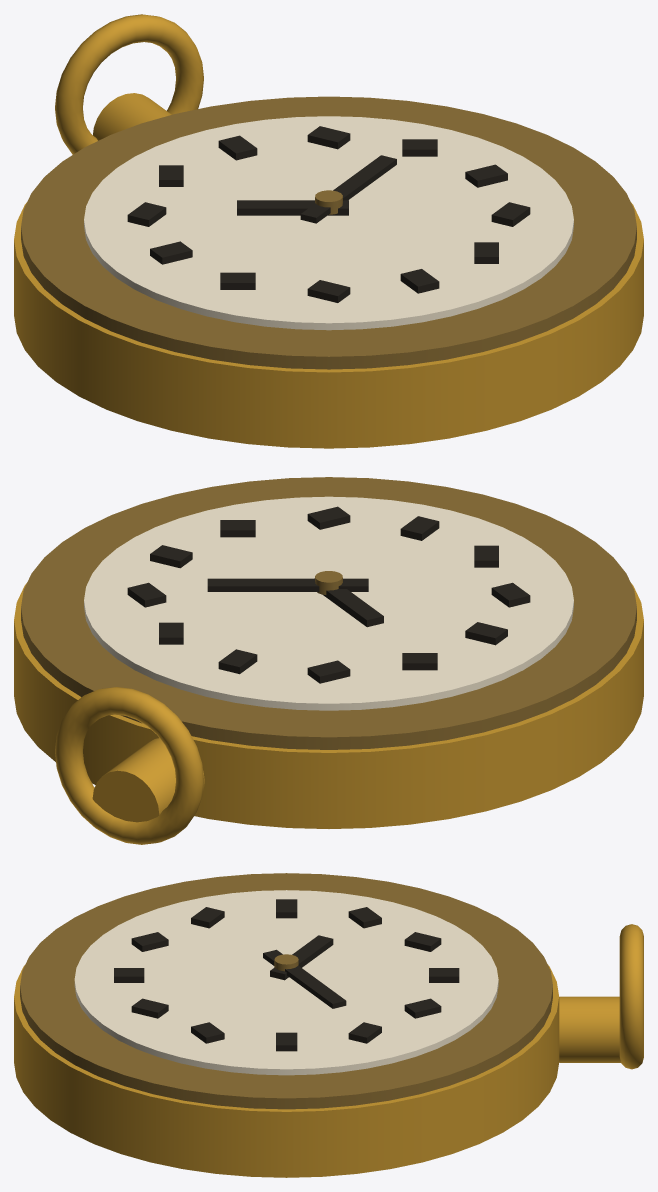
The model's file is montre_de_gousset.glb.
3 renders of one model, top to bottom at view 1: azimuth 30°, elevation 25°; view 2: azimuth 150°, elevation 25°; view 3: azimuth 270°, elevation 25°, orthographic. The views are drawn at different scales.
Visible parts, largest first — view 1: montre_de_gousset, boitier; view 2: montre_de_gousset, boitier; view 3: montre_de_gousset, boitier.
Part boxes in pixels (x1=…): montre_de_gousset: x1=21, y1=14, x2=636, y2=369; boitier: x1=14, y1=202, x2=643, y2=448; montre_de_gousset: x1=21, y1=477, x2=636, y2=844; boitier: x1=14, y1=583, x2=643, y2=828; montre_de_gousset: x1=20, y1=873, x2=643, y2=1109; boitier: x1=14, y1=965, x2=559, y2=1177.
Size of the model in its own units: 0.9 by 0.24 by 1.04.
